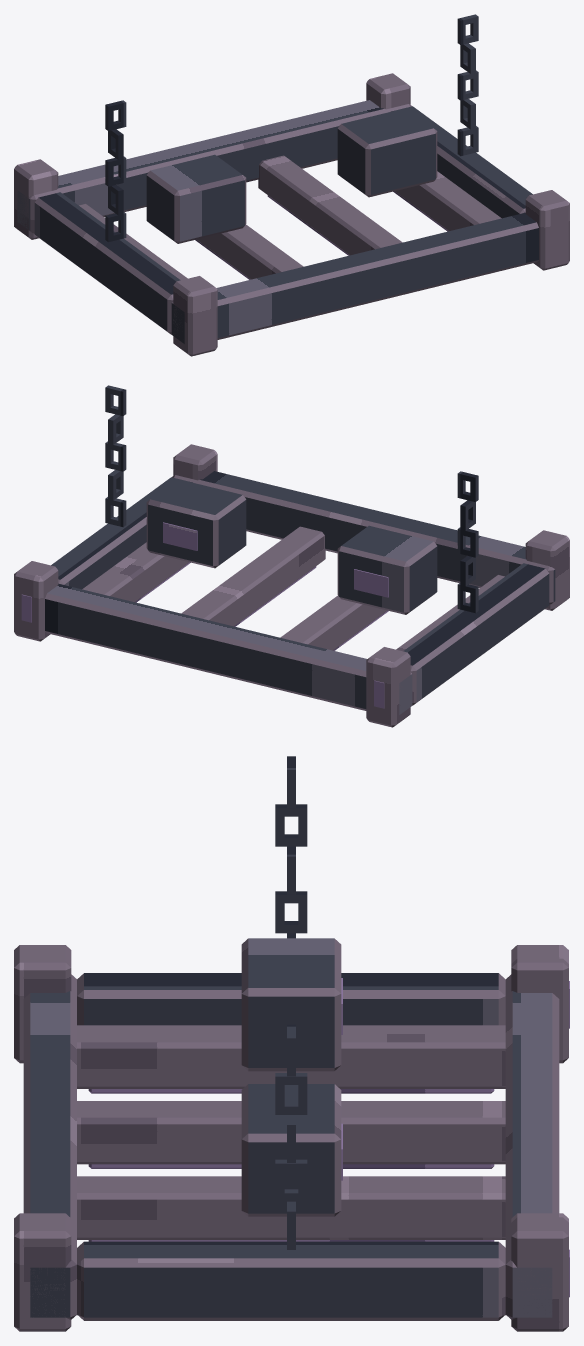
Rendered from placed_uv_panel_4.obj.
The picture shows the model from 3 angles, top to bottom: view 1: azimuth 30°, elevation 25°; view 2: azimuth 150°, elevation 25°; view 3: azimuth 270°, elevation 25°; orthographic projection. The views are drawn at different scales.
Visible parts, largest first — view 1: model; view 2: model; view 3: model.
Boxes of the visible parts, x1,y1,x2,y2 form: model: (14,14,569,356); model: (14,385,569,727); model: (14,756,569,1331).
Bounding box in the file's own units: 1.12 × 0.5487 × 0.9081.
